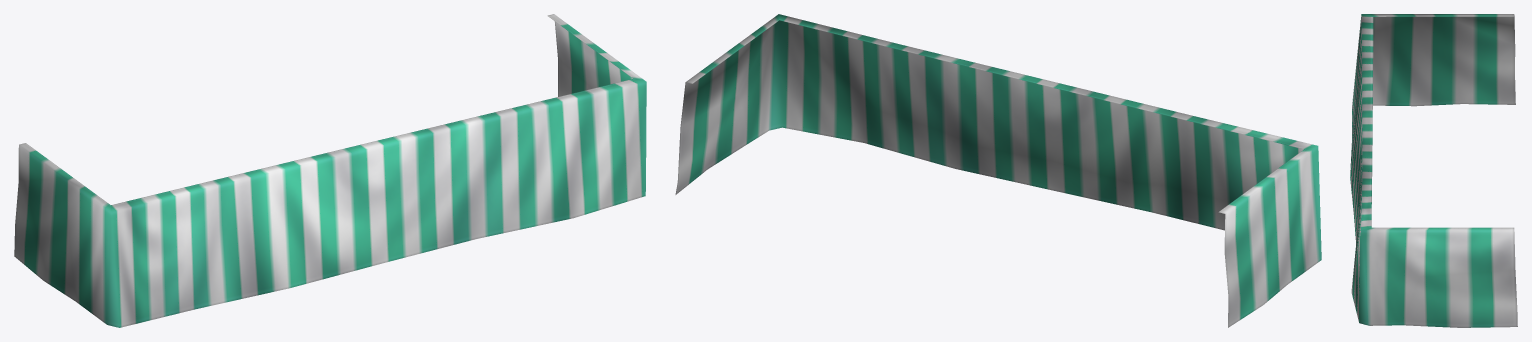
Rendered from jsf_BlindfoldCloth_2P_s01_01.fbx.
3 renders of one model, left to right at view 1: azimuth 30°, elevation 25°; view 2: azimuth 150°, elevation 25°; view 3: azimuth 270°, elevation 25°, orthographic. The views are drawn at different scales.
Visible parts, largest first — view 1: jsf_BlindfoldCloth_2P_s01_01; view 2: jsf_BlindfoldCloth_2P_s01_01; view 3: jsf_BlindfoldCloth_2P_s01_01.
Boxes of the visible parts, x1,y1,x2,y2 form: jsf_BlindfoldCloth_2P_s01_01: (14, 14, 646, 327); jsf_BlindfoldCloth_2P_s01_01: (675, 14, 1321, 327); jsf_BlindfoldCloth_2P_s01_01: (1350, 14, 1517, 327).
Size of the model in its own units: 153 by 30.11 by 48.69.
